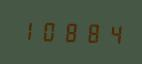eight: (60, 19, 80, 44), (81, 20, 101, 45)
four: (102, 21, 122, 45)
one: (18, 18, 38, 42)
zero: (39, 18, 59, 43)
